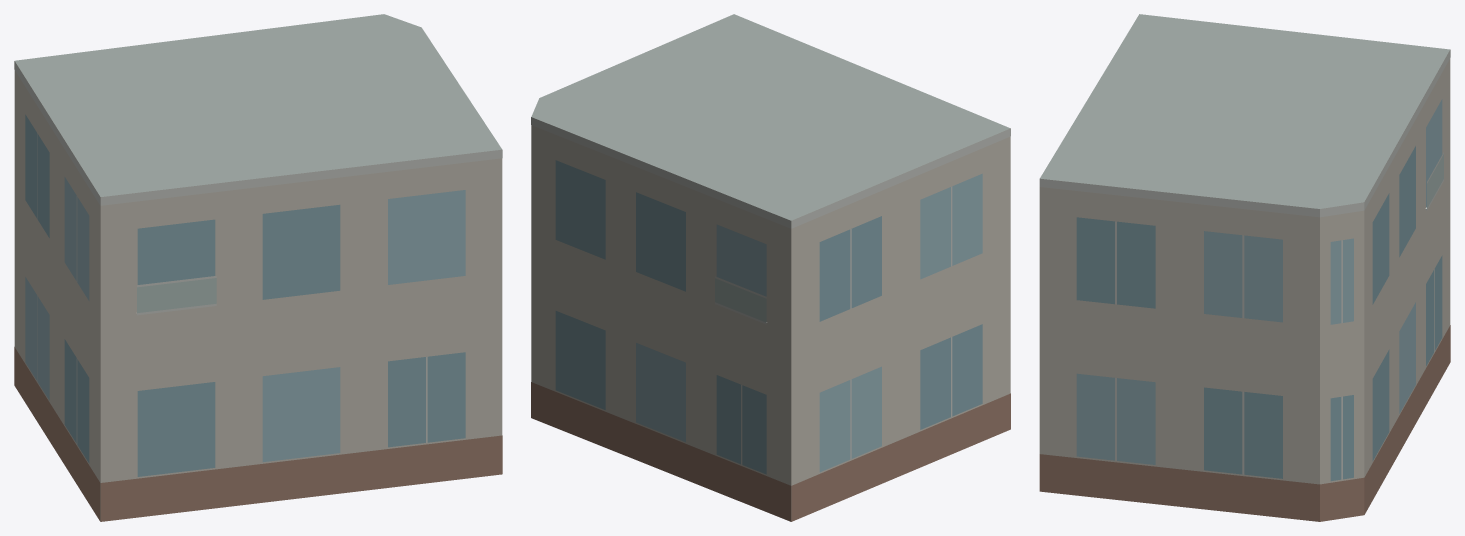
File: survey-upis-32923087.glb
The picture shows the model from 3 angles, left to right: view 1: azimuth 30°, elevation 25°; view 2: azimuth 150°, elevation 25°; view 3: azimuth 270°, elevation 25°; orthographic projection. The views are drawn at different scales.
Visible parts, largest first — view 1: survey-upis-32923087.tmp; view 2: survey-upis-32923087.tmp; view 3: survey-upis-32923087.tmp.
Boxes of the visible parts, bbox=[...] form: survey-upis-32923087.tmp: bbox=[14, 14, 502, 521]; survey-upis-32923087.tmp: bbox=[531, 14, 1010, 521]; survey-upis-32923087.tmp: bbox=[1039, 14, 1450, 521].
Bounding box in the file's own units: 12.24 × 9.15 × 10.9.
